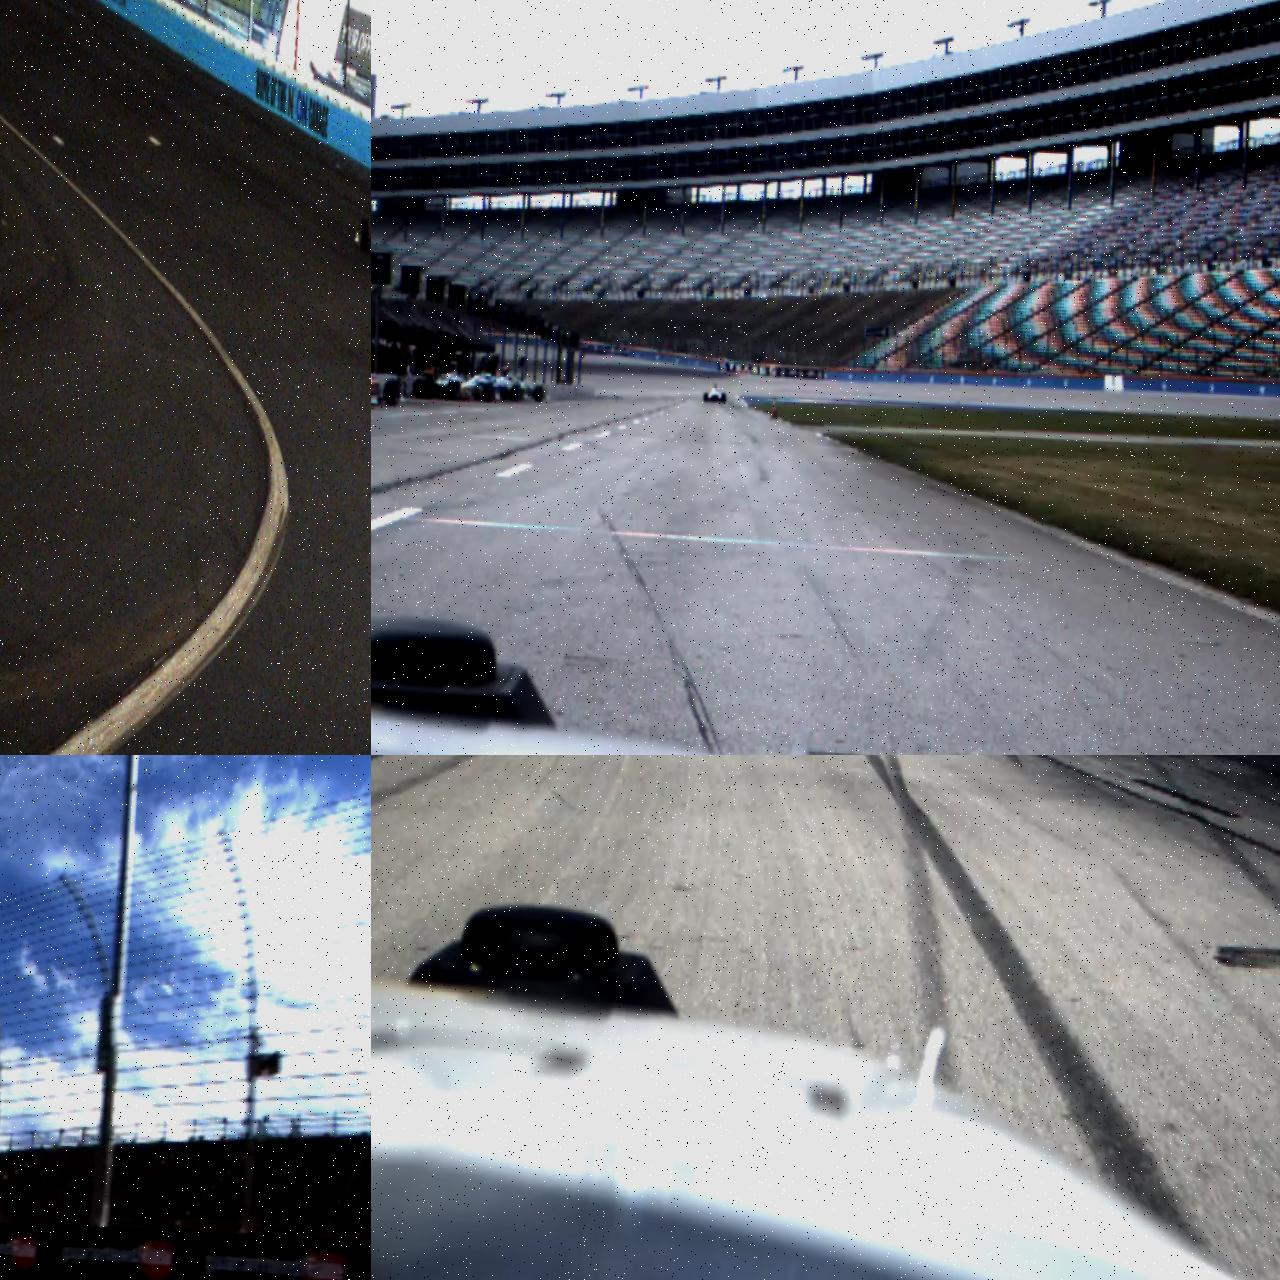AV: (413, 359, 495, 403), (352, 188, 372, 264), (702, 382, 727, 403)
Wheel: (383, 377, 400, 406), (358, 218, 368, 251), (447, 380, 461, 400), (413, 377, 425, 397), (532, 384, 545, 402), (483, 381, 493, 402), (511, 383, 522, 402), (703, 392, 708, 402), (721, 393, 726, 402)
